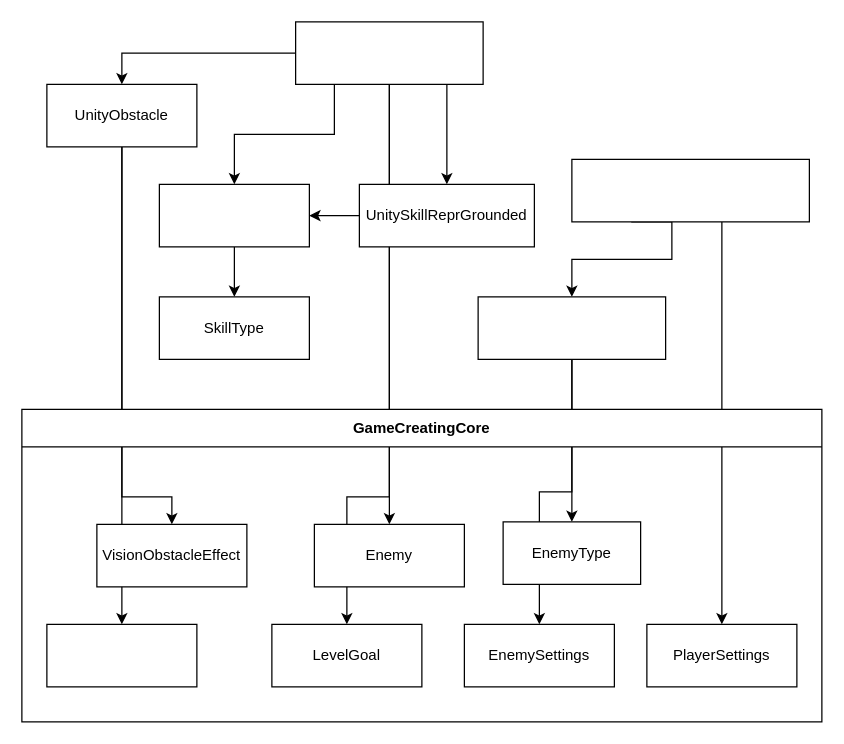
Image size: 844x744. Some labels were removed from this diagram. The shapes that lost their labels are listed below. From the top down, each one's centre as x and y in pixels, then its label:
point 388,52: UnityLevelRepresentation
point 690,190: UnityStaticGameRepresentation
point 233,215: UnitySkillRepr
point 571,327: UnityViewconeDescription
point 121,655: WalkObstacleEffect
